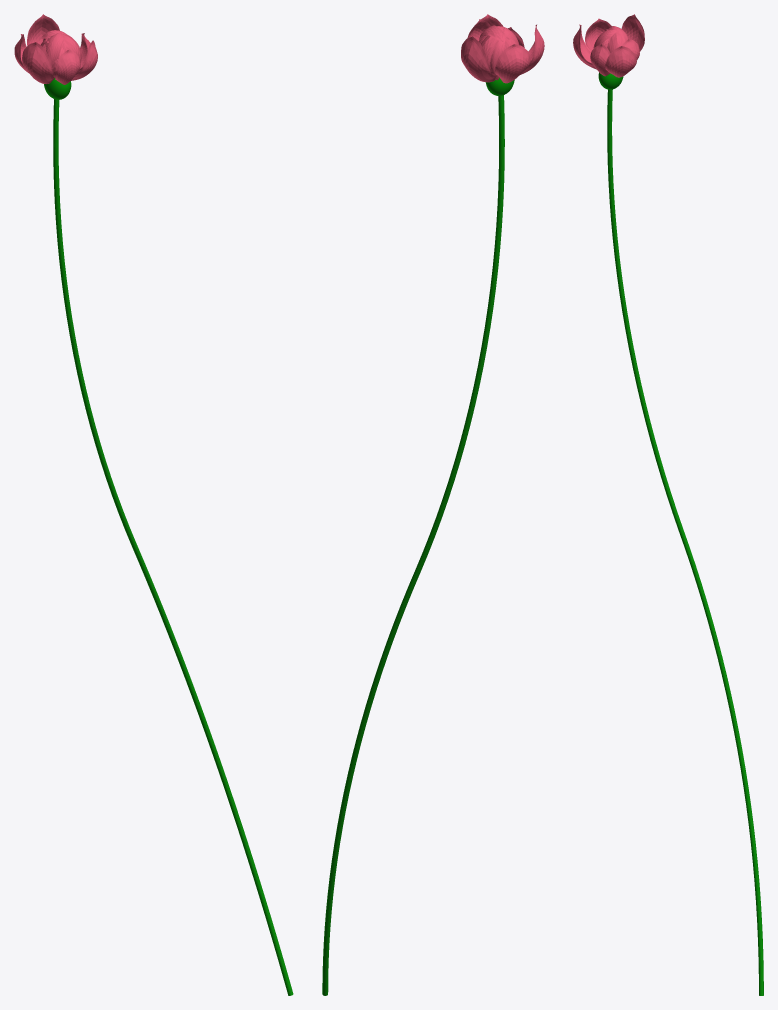
The model's file is Lotus031.fbx.
The picture shows the model from 3 angles, left to right: view 1: azimuth 30°, elevation 25°; view 2: azimuth 150°, elevation 25°; view 3: azimuth 330°, elevation 25°; orthographic projection. The views are drawn at different scales.
Parts seen in each view (by area): view 1: pCylinder5, nurbsToPoly11, nurbsToPoly8; view 2: pCylinder5, nurbsToPoly10, nurbsToPoly12; view 3: pCylinder5, nurbsToPoly24, nurbsToPoly10.
Boxes of the visible parts, x1,y1,x2,y2 form: pCylinder5: [53, 99, 293, 995]; nurbsToPoly11: [22, 42, 54, 83]; nurbsToPoly8: [55, 50, 80, 84]; pCylinder5: [322, 95, 504, 995]; nurbsToPoly10: [461, 36, 497, 82]; nurbsToPoly12: [495, 44, 530, 83]; pCylinder5: [607, 89, 763, 995]; nurbsToPoly24: [605, 46, 636, 77]; nurbsToPoly10: [621, 14, 644, 51].
Size of the model in its own units: 50.57 by 202 by 21.82.
